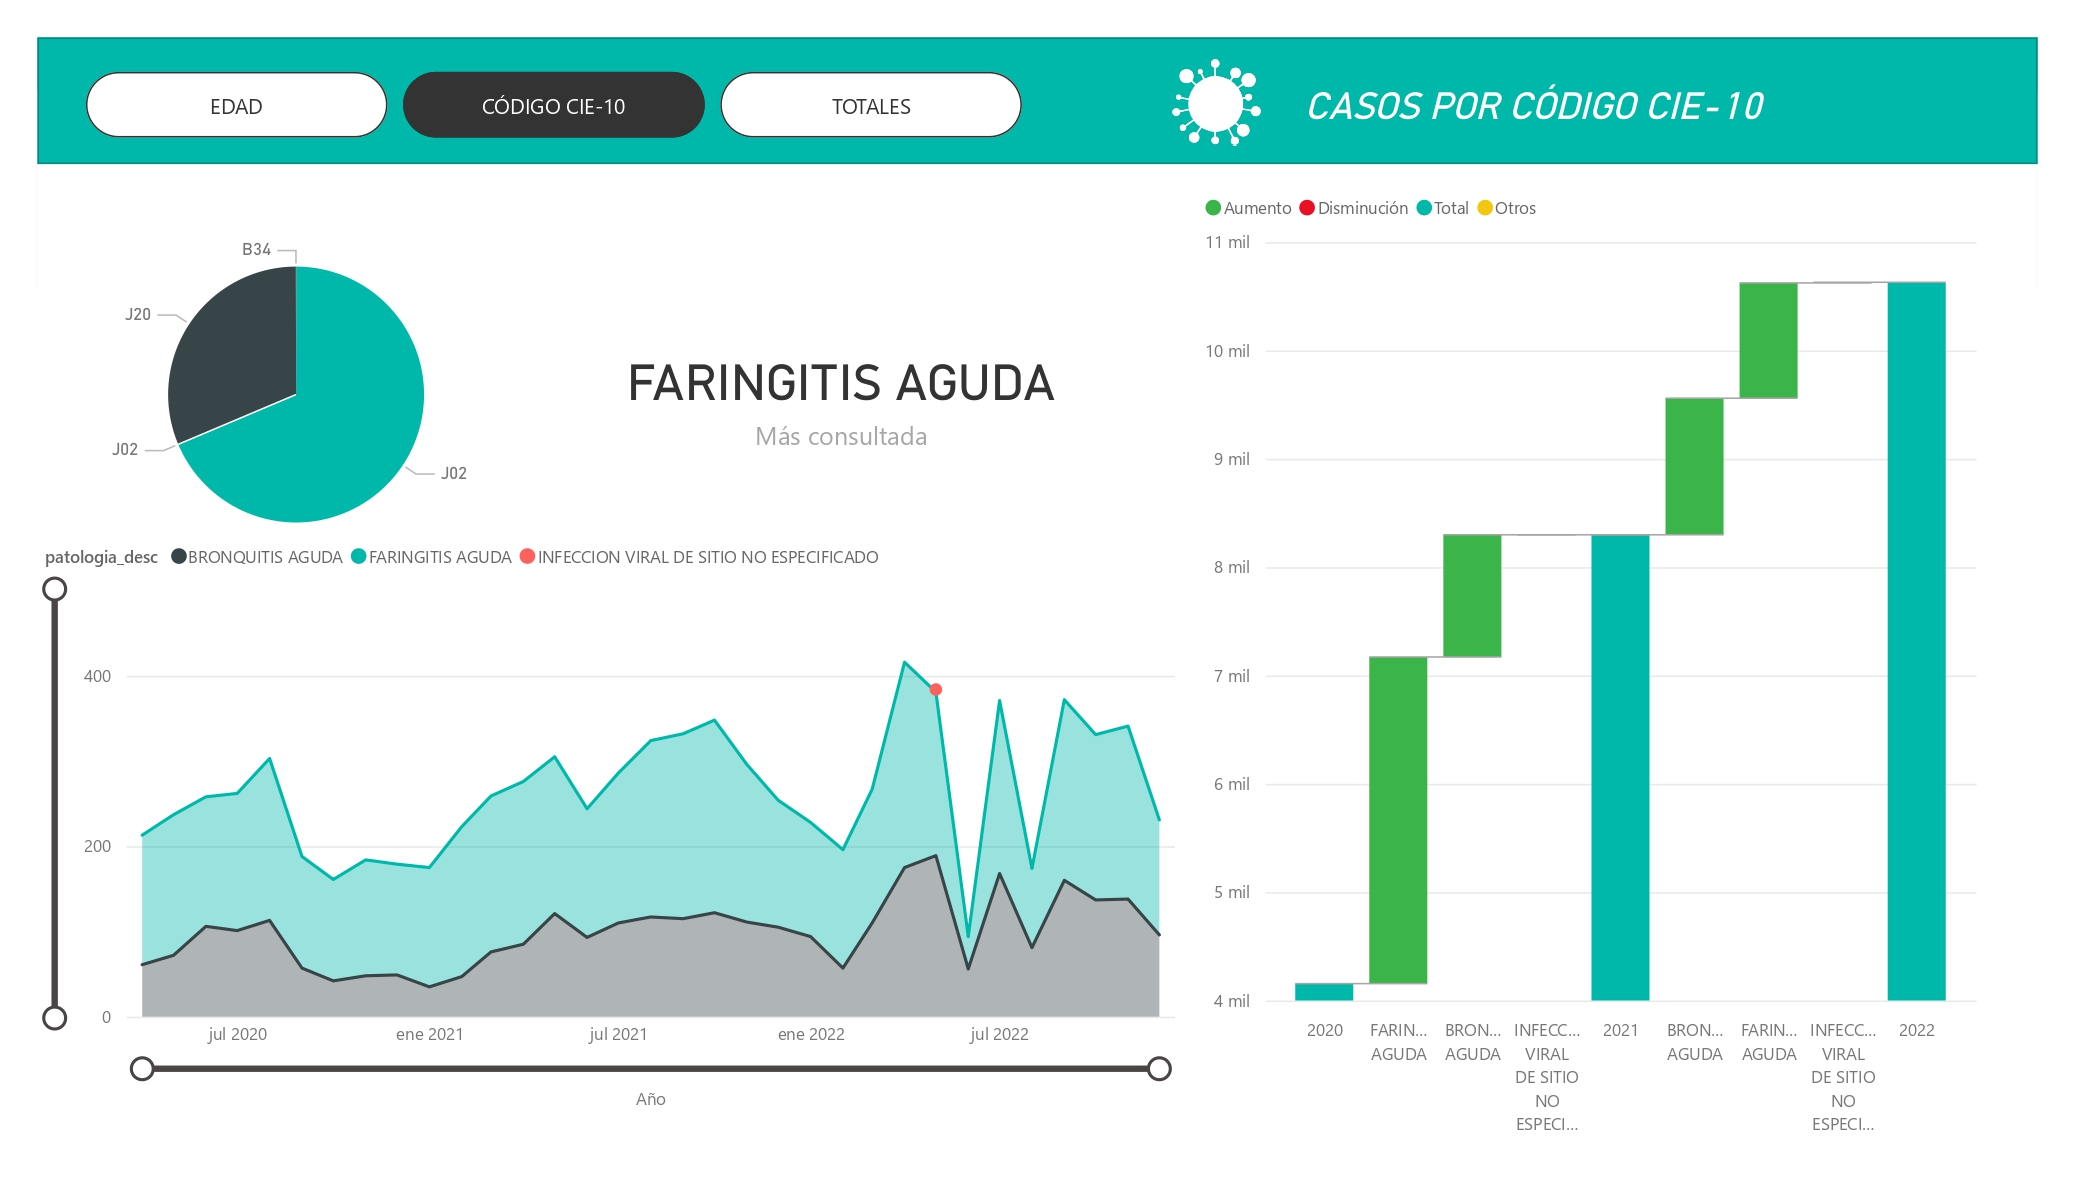

The dashboard page shown, as its layout file describes it:
{"tool":"powerbi","page":{"name":"CÓDIGO CIE-10","canvas":[1280,720],"ordinal":1},"visuals":[{"type":"shape","box":[0,0,1280,80.9],"z":0},{"type":"textbox","box":[806.3,25.4,328.9,48.3],"z":1000},{"type":"pageNavigator","box":[30.8,21.8,599.6,42.4],"z":2000},{"type":"pieChart","fields":{"Y":["Sum(df.consulta_cantidad)"],"Category":["df.patologia_desc"],"Series":["df.patologia_cod"]},"box":[0,111.7,331.2,233.7],"z":3000},{"type":"stackedAreaChart","fields":{"Category":["df.fecha.Variación.Jerarquía de fechas.Año","df.fecha.Variación.Jerarquía de fechas.Mes"],"Y":["CountNonNull(df.patologia_cod)"],"Series":["df.patologia_desc"]},"box":[0,343.8,1280,375],"z":4000},{"type":"image","box":[703.5,8.9,102.9,64.8],"z":5000},{"type":"card","fields":{"Values":["Count(df.patologia_cod)"]},"box":[361.9,111.7,393.7,233.7],"z":6000},{"type":"card","fields":{"Values":["df.Primera fecha: patologia_desc máx. por consulta_cantidad 2"]},"box":[724.4,110.9,524.1,233.1],"z":7000}]}

Visuals, with their boxes in screenshot pixels (x1, y1, x2, y2):
shape: (left=38, top=38, right=2038, bottom=164)
textbox: (left=1297, top=77, right=1811, bottom=153)
pageNavigator: (left=86, top=72, right=1022, bottom=138)
pieChart - Sum(df.consulta_cantidad) x df.patologia_desc: (left=38, top=212, right=555, bottom=577)
stackedAreaChart - df.fecha.Variación.Jerarquía de fechas.Año x df.fecha.Variación.Jerarquía de fechas.Mes: (left=38, top=575, right=2038, bottom=1161)
image: (left=1137, top=51, right=1298, bottom=153)
card - Count(df.patologia_cod): (left=603, top=212, right=1218, bottom=577)
card - df.Primera fecha: patologia_desc máx. por consulta_cantidad 2: (left=1169, top=211, right=1988, bottom=575)
